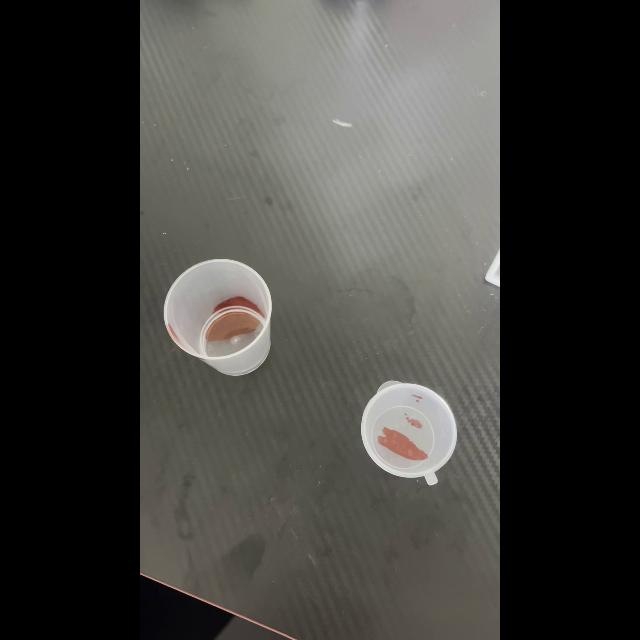dirty: (162, 259, 274, 375), (360, 382, 458, 482)
